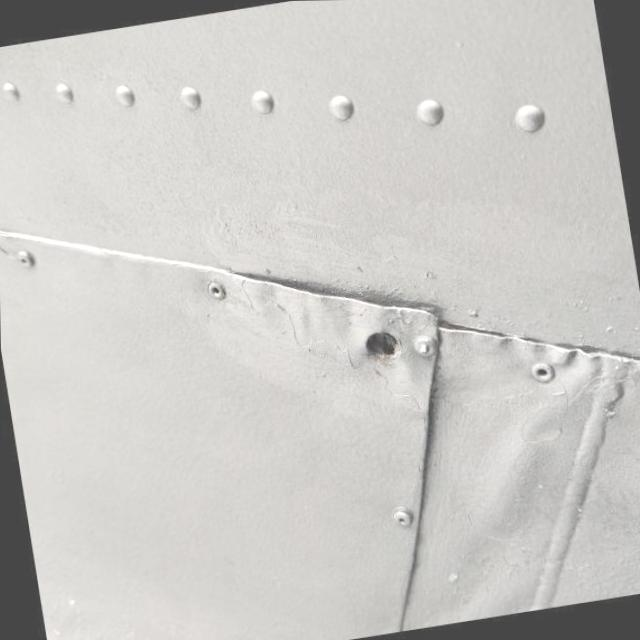Missing Fastener: (367, 329, 404, 358)
